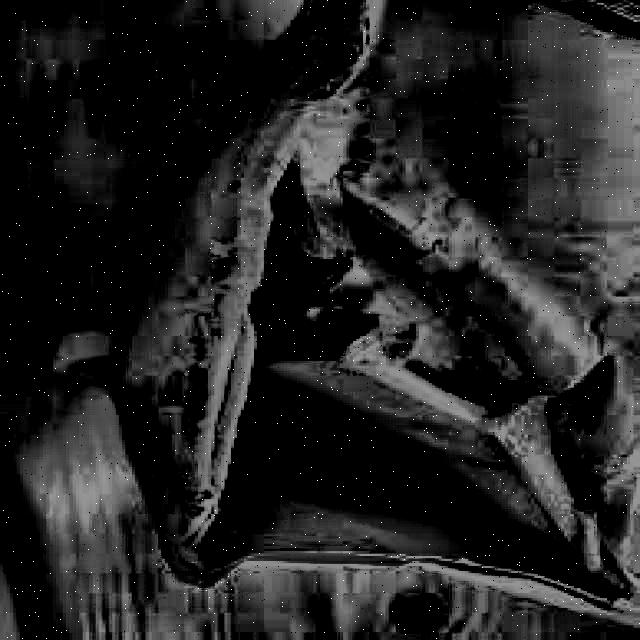box: (101, 0, 639, 636)
hole: (200, 179, 612, 609)
